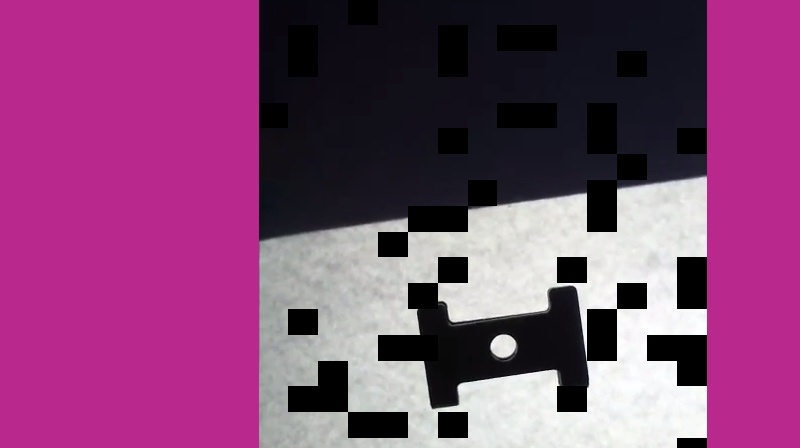O002: (413, 281, 590, 415)
